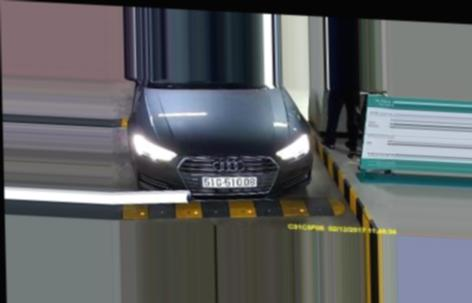License_Plate: (201, 172, 257, 188)
